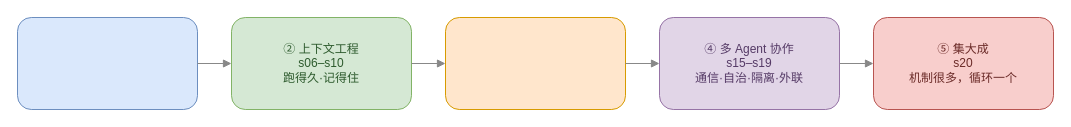
The diagram is 1071 pixels wide and 127 high, and some of its shapes have lost their labels. The shapes that lost their labels are listed below. From the top down, each one's box as (x1, y1, x2, y2) in pixels, then its label:
(16, 16, 198, 110): ① 基础设施 s01–s05 安全·可扩展·有规划
(444, 16, 626, 110): ③ 健壮性与编排 s11–s14 扛得住·排得开
